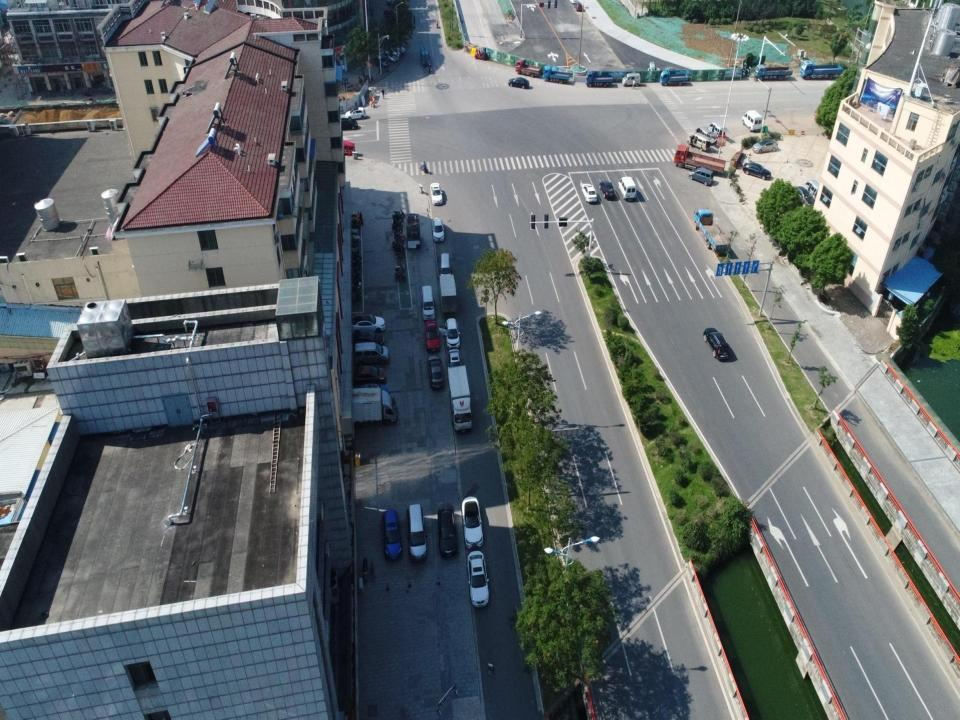car: (467, 550, 489, 608), (461, 496, 483, 549), (437, 504, 458, 556), (382, 510, 402, 560), (702, 327, 731, 360), (438, 317, 460, 349), (351, 365, 386, 385), (351, 314, 386, 333), (426, 354, 444, 389), (742, 162, 772, 182), (790, 184, 814, 207), (352, 383, 390, 397), (424, 319, 440, 352), (351, 330, 384, 345), (618, 176, 636, 202), (752, 138, 778, 154), (432, 217, 446, 243), (581, 183, 598, 203), (448, 347, 461, 373), (599, 181, 616, 200), (430, 182, 443, 206), (345, 106, 366, 120), (338, 117, 358, 131), (508, 77, 530, 89), (380, 51, 398, 63), (374, 55, 389, 68), (390, 44, 405, 54), (386, 48, 400, 58), (574, 1, 582, 12)
truck: (344, 387, 398, 429), (447, 364, 474, 433), (694, 207, 730, 256), (674, 144, 725, 176), (798, 58, 844, 80), (438, 274, 459, 317), (752, 65, 792, 81), (542, 65, 571, 85), (406, 213, 421, 249), (516, 58, 542, 78), (584, 70, 612, 88), (659, 69, 689, 85)
van: (406, 504, 429, 560), (354, 342, 390, 366), (686, 132, 712, 152), (742, 109, 763, 132), (689, 166, 713, 186), (422, 285, 436, 319), (804, 179, 825, 201), (708, 121, 728, 139), (439, 251, 452, 278), (694, 126, 716, 141), (622, 72, 640, 87), (419, 45, 430, 65)
